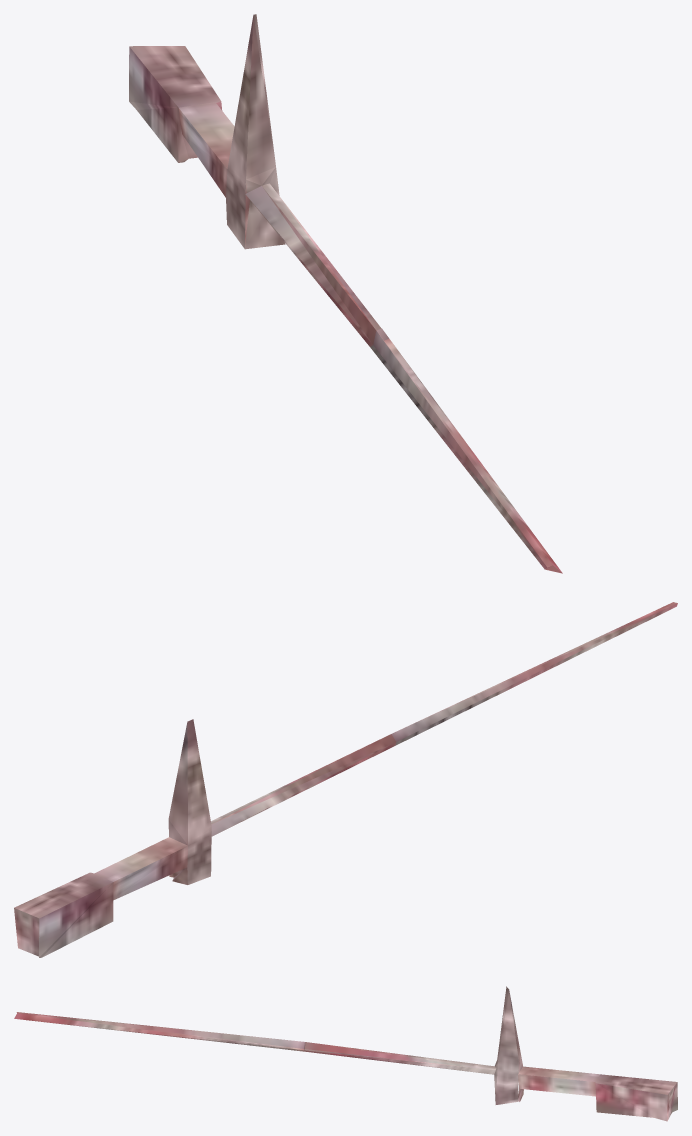
3 views of the same model, one above another, from view 1: azimuth 30°, elevation 25°; view 2: azimuth 150°, elevation 25°; view 3: azimuth 270°, elevation 25° (orthographic). The views are drawn at different scales.
Visible parts, largest first — view 1: Mesh_0; view 2: Mesh_0; view 3: Mesh_0.
Part boxes in pixels (x1=…): Mesh_0: x1=129, y1=14, x2=562, y2=573; Mesh_0: x1=14, y1=602, x2=677, y2=957; Mesh_0: x1=14, y1=986, x2=677, y2=1121.
Bounding box in the file's own units: 14.48 × 10.93 × 57.58.
Materials: 1 (1 with a texture image).
